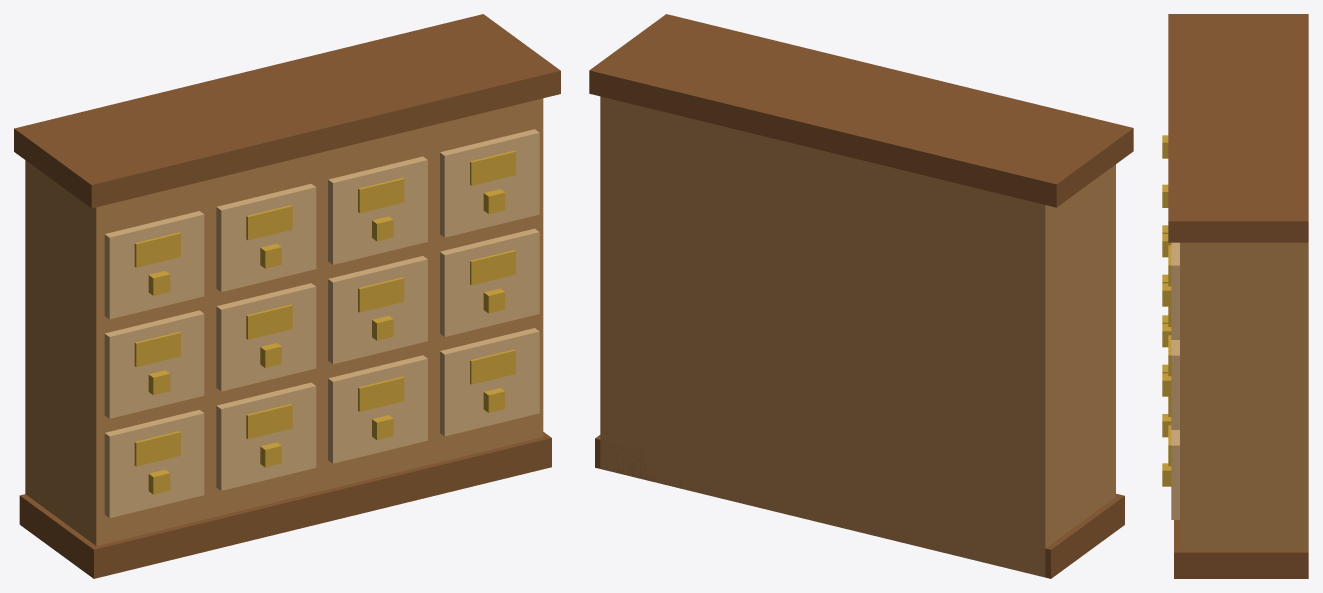
Rendered from card-catalog.glb.
3 renders of one model, left to right at view 1: azimuth 30°, elevation 25°; view 2: azimuth 150°, elevation 25°; view 3: azimuth 270°, elevation 25°, orthographic. The views are drawn at different scales.
Parts seen in each view (by area): view 1: card-catalog; view 2: card-catalog; view 3: card-catalog.
Boxes of the visible parts, x1=… form: card-catalog: x1=14, y1=14, x2=560, y2=578; card-catalog: x1=589, y1=14, x2=1133, y2=578; card-catalog: x1=1162, y1=14, x2=1308, y2=578.
Bounding box in the file's own units: 0.84 × 0.68 × 0.25.
1 material, 1 textured.
